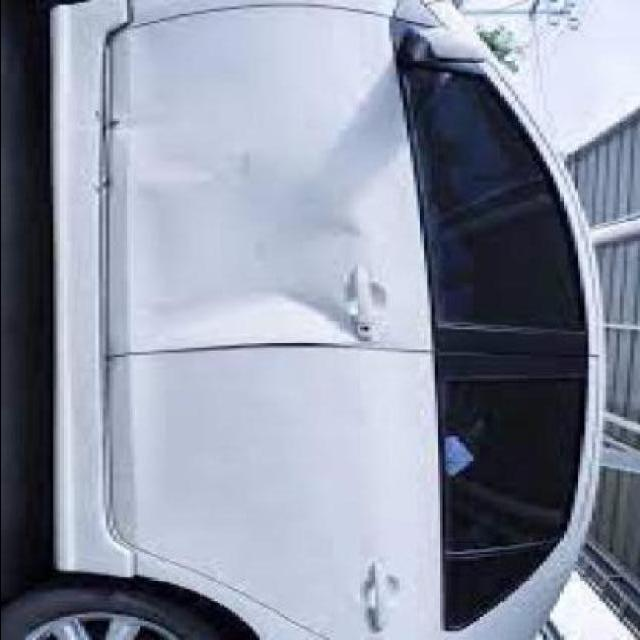doorouter-dent: (55, 9, 447, 283), (56, 202, 458, 413)
